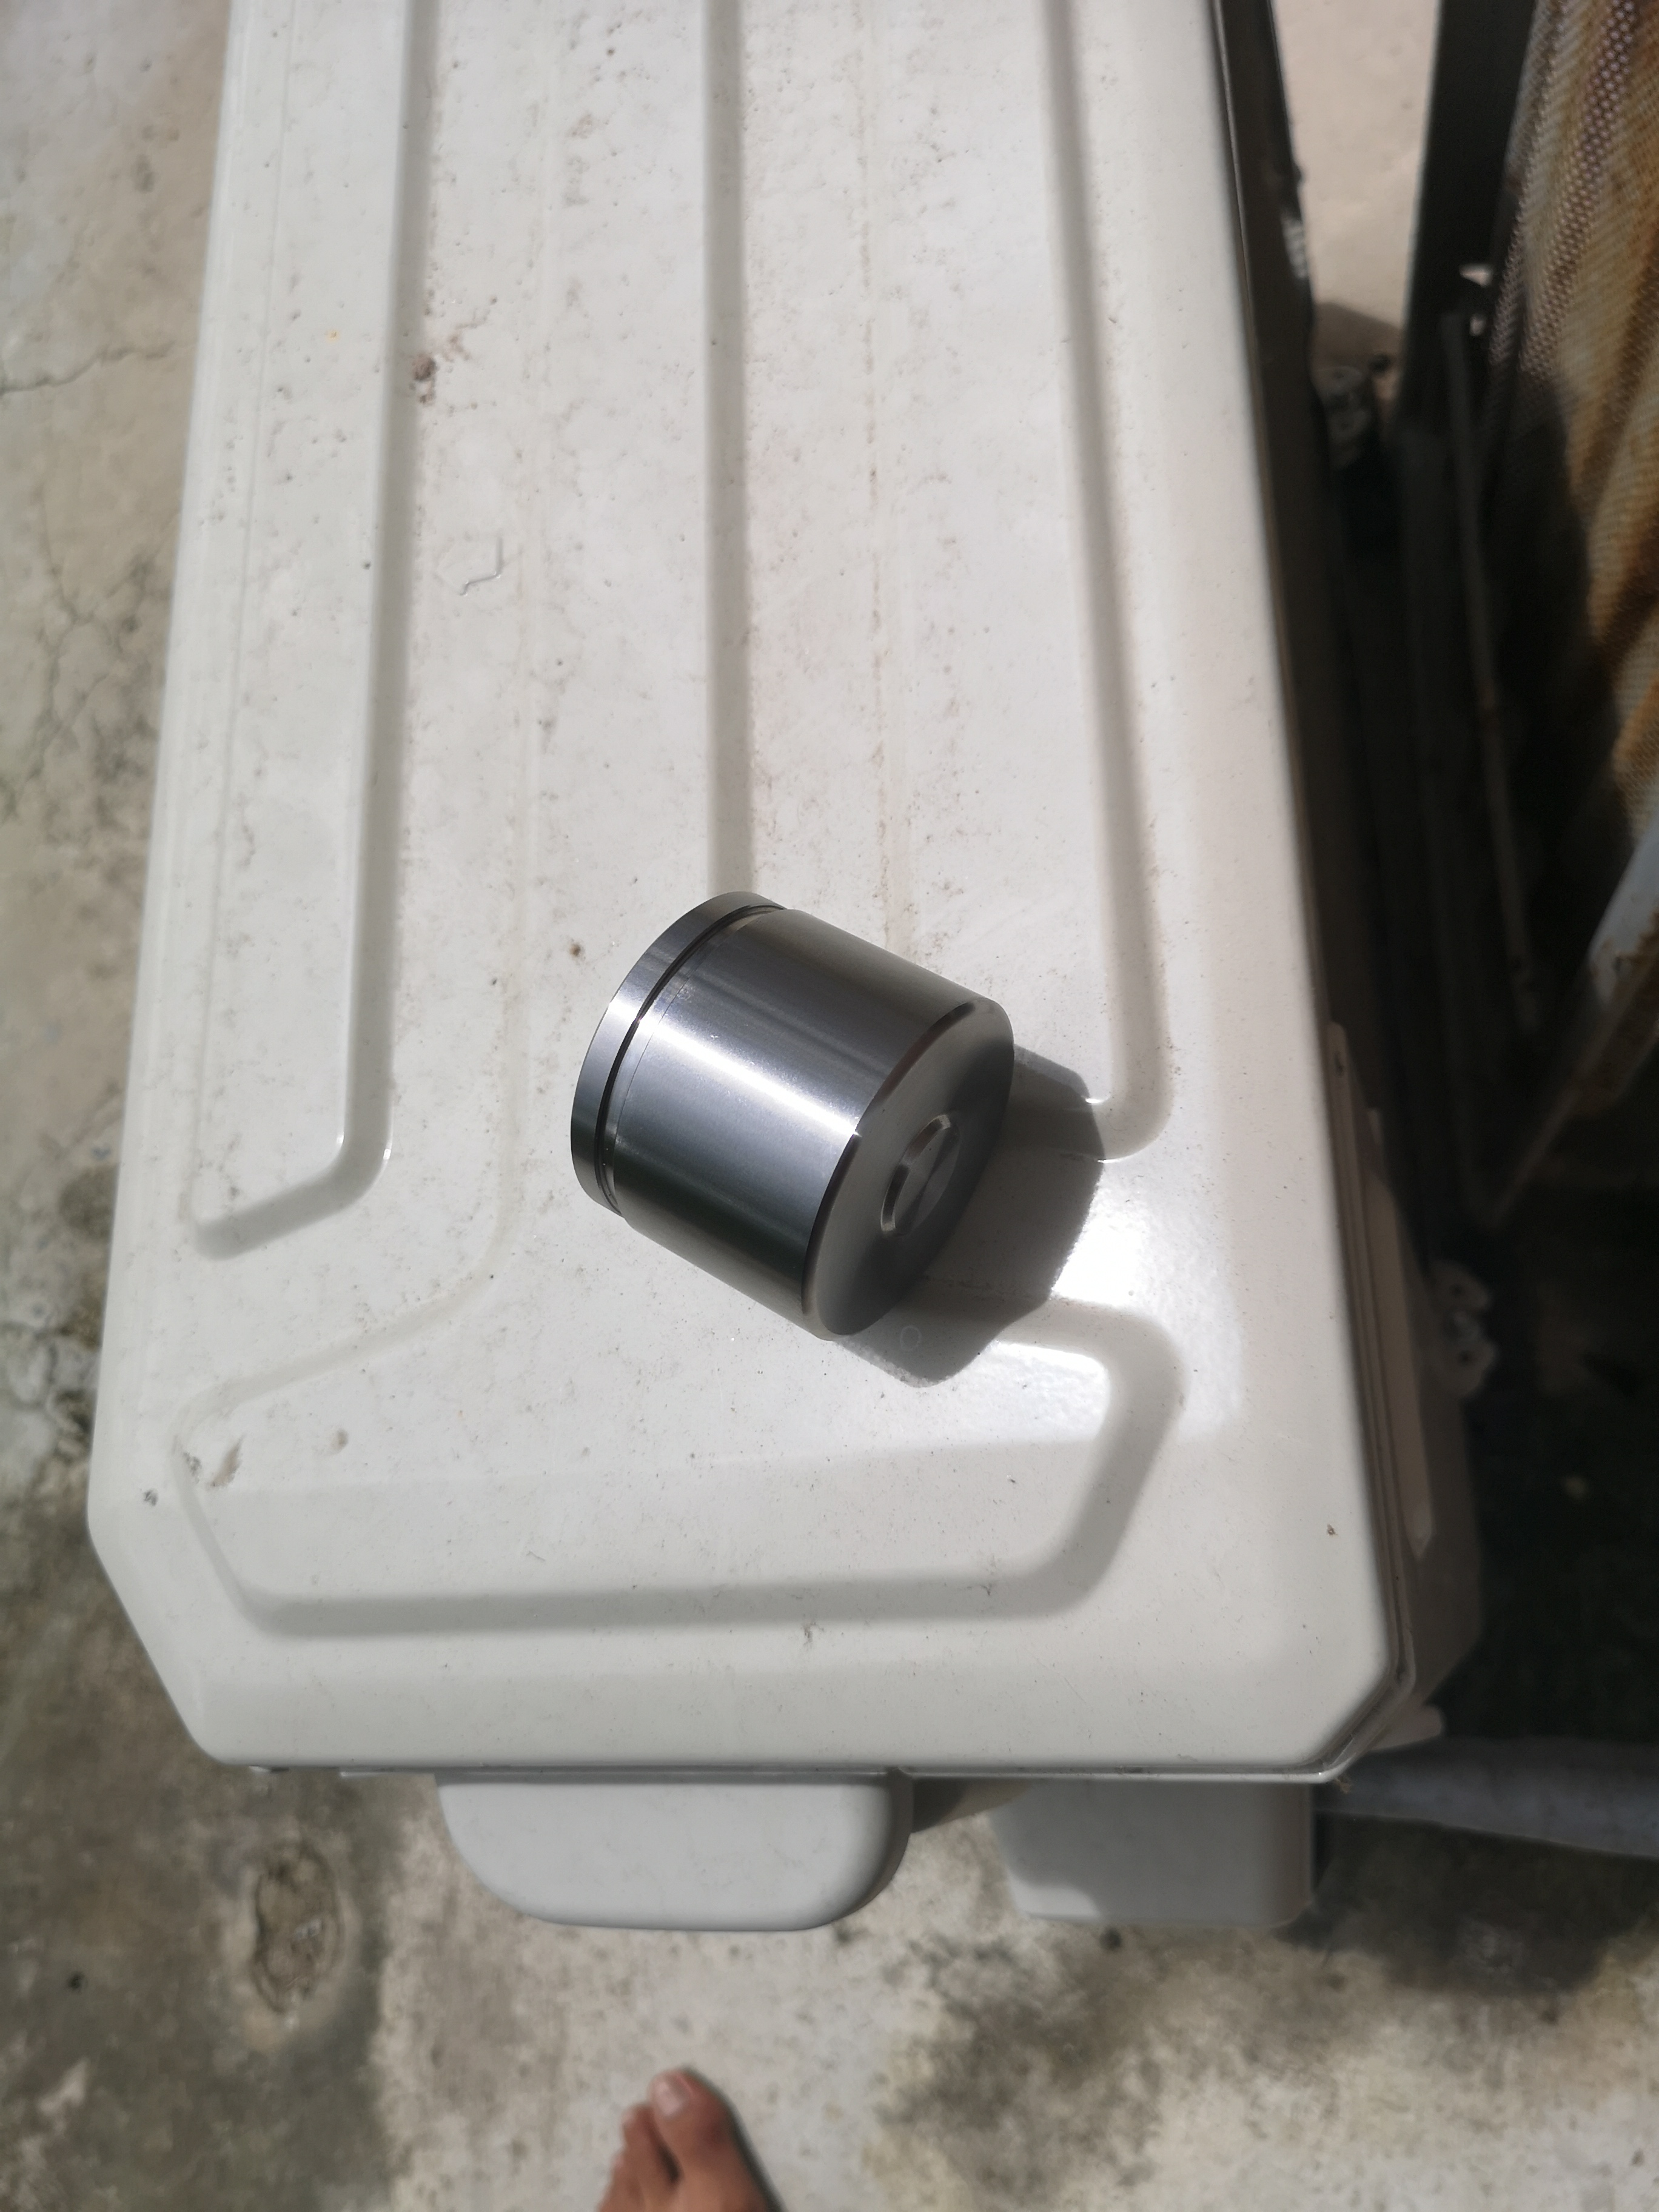ลูกสูบดิสเบรค: (554, 864, 1087, 1397)
